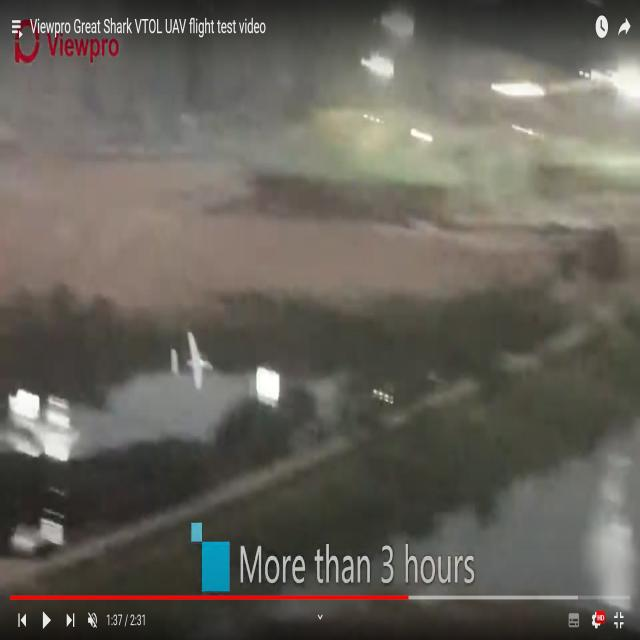iha: (171, 331, 213, 391)
